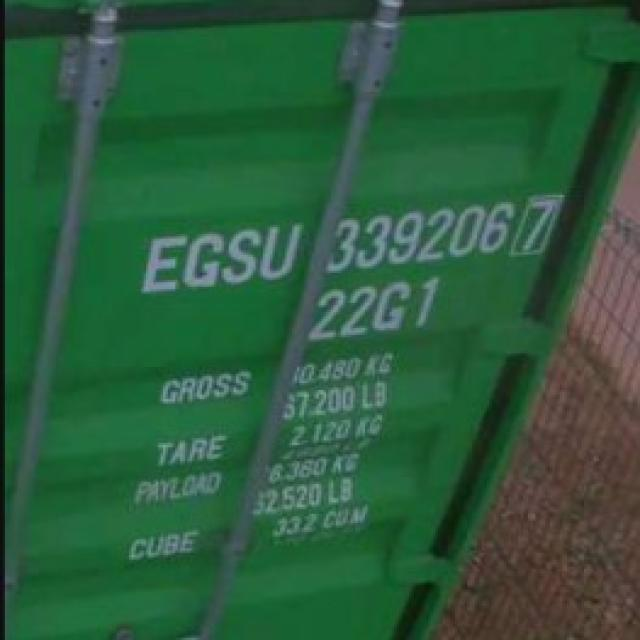dv: (516, 190, 562, 262)
owner: (135, 219, 305, 297)
serial: (324, 197, 516, 272)
size: (309, 274, 445, 345)
